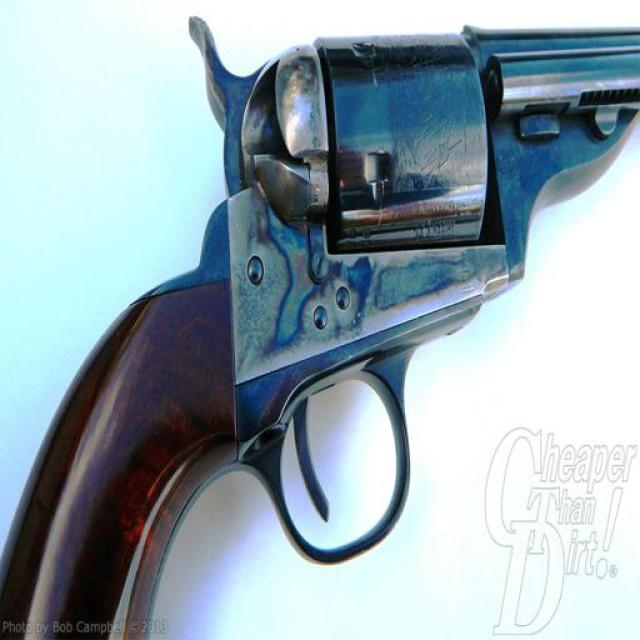pistol: (1, 16, 639, 638)
